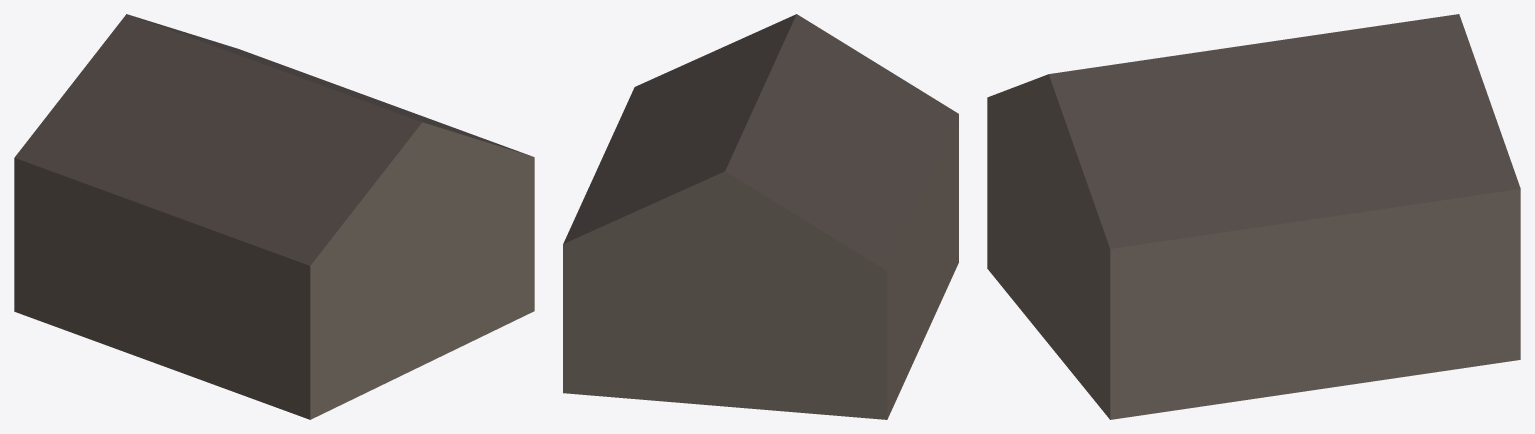
3 renders of one model, left to right at view 1: azimuth 30°, elevation 25°; view 2: azimuth 150°, elevation 25°; view 3: azimuth 270°, elevation 25°, orthographic. The views are drawn at different scales.
Parts seen in each view (by area): view 1: HP-w1376988814; view 2: HP-w1376988814; view 3: HP-w1376988814.
Boxes of the visible parts, left/top/right/bottom form: HP-w1376988814: left=14, top=14, right=534, bottom=419; HP-w1376988814: left=563, top=14, right=958, bottom=419; HP-w1376988814: left=987, top=14, right=1520, bottom=419.
Bounding box in the file's own units: 15.93 × 9.48 × 16.97.
